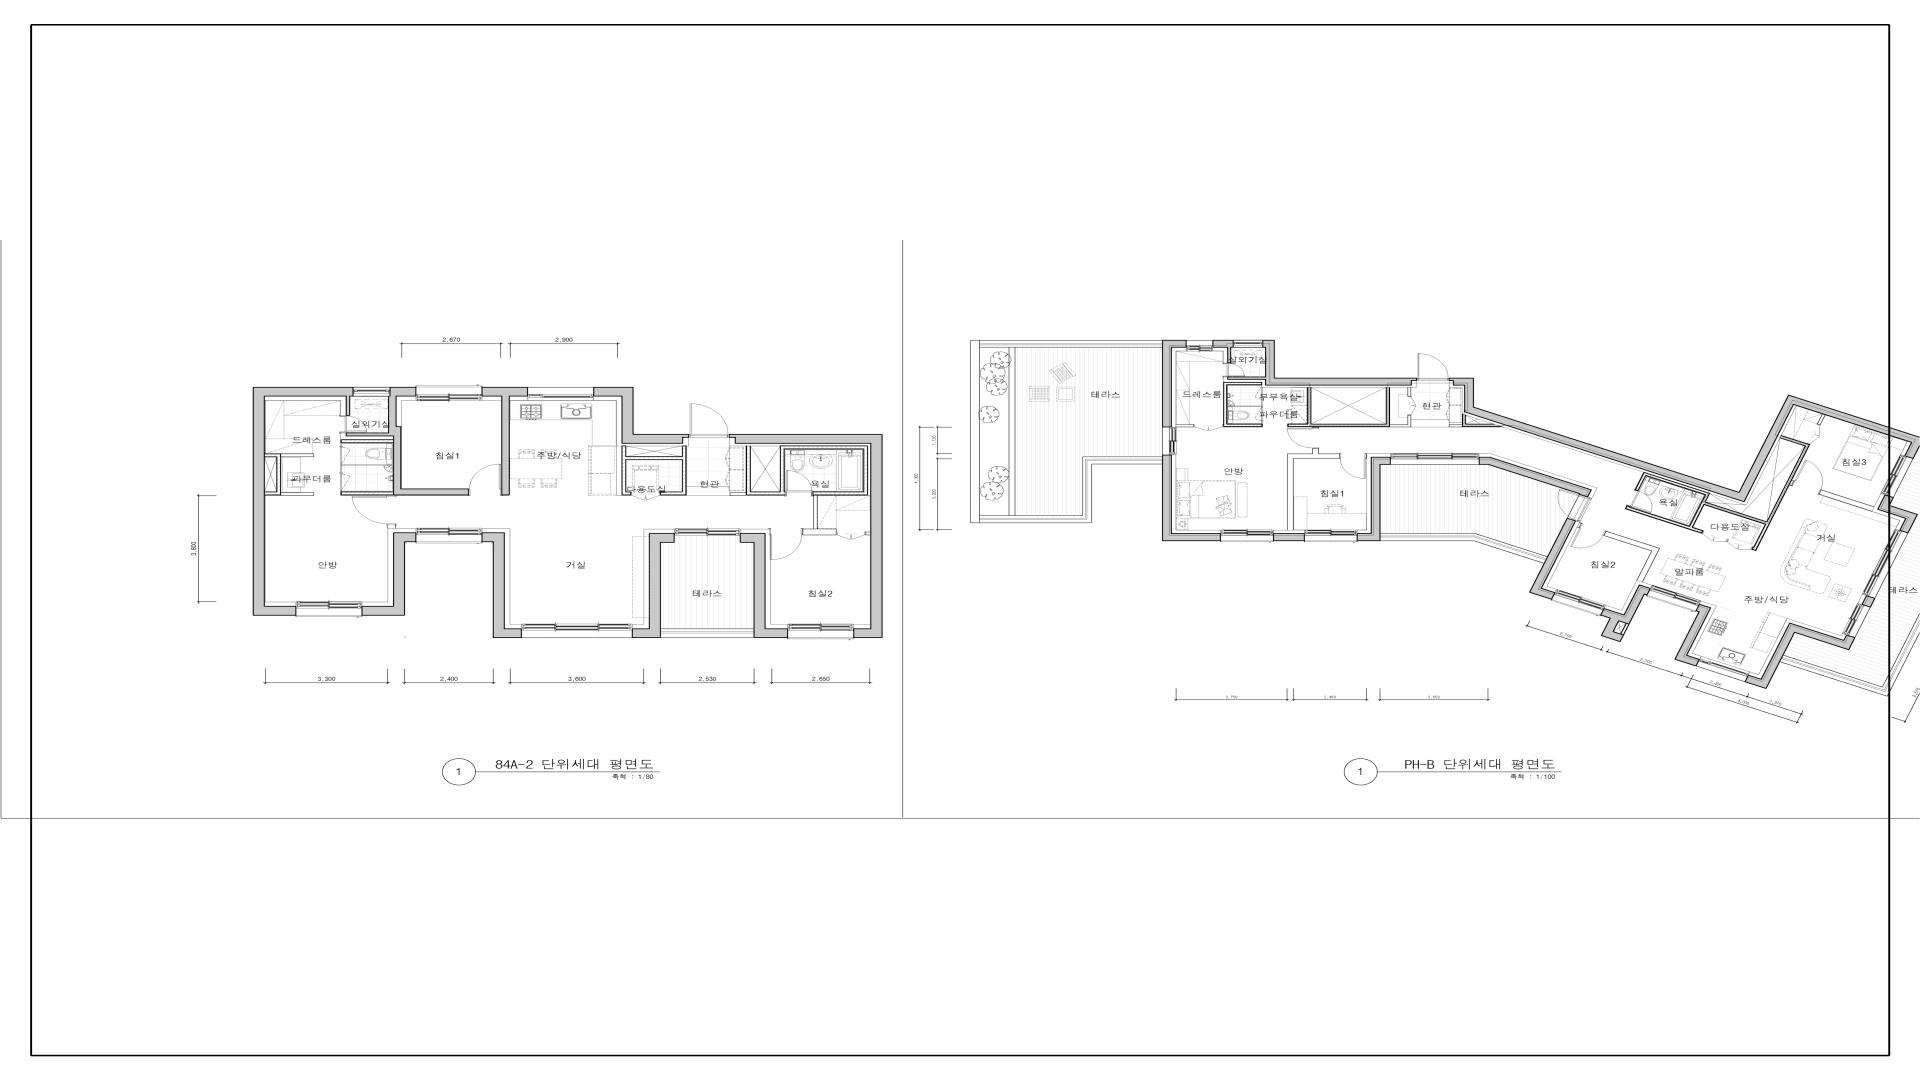door: (1547, 488, 1592, 522), (690, 404, 729, 438), (1792, 460, 1832, 495), (352, 496, 397, 525), (1568, 522, 1606, 554), (769, 529, 803, 560), (469, 464, 501, 496), (1418, 353, 1449, 381), (1626, 489, 1658, 513), (1340, 454, 1367, 479), (1287, 427, 1319, 448), (786, 471, 812, 496), (339, 415, 367, 433), (1700, 531, 1729, 546), (1725, 539, 1753, 554), (1222, 364, 1245, 377), (632, 492, 661, 501), (1193, 425, 1224, 431), (340, 473, 351, 491), (340, 447, 351, 464), (1255, 385, 1263, 400), (1255, 406, 1263, 421)
wall: (1449, 377, 1920, 502), (729, 434, 882, 638), (253, 386, 353, 616), (1625, 435, 1811, 551), (345, 386, 469, 496), (729, 446, 868, 535), (1228, 340, 1418, 385), (1745, 622, 1855, 690), (593, 386, 690, 444), (481, 386, 529, 496), (740, 533, 789, 638), (1162, 455, 1221, 541), (1287, 386, 1411, 427), (361, 533, 417, 616), (632, 533, 675, 638), (1478, 458, 1592, 497), (481, 533, 522, 638), (1287, 448, 1340, 530), (1530, 518, 1576, 600), (621, 446, 687, 496), (1604, 531, 1660, 583), (1601, 584, 1651, 642), (1357, 458, 1391, 542), (1675, 604, 1712, 666), (1162, 340, 1187, 427), (265, 454, 314, 496), (1224, 382, 1263, 427), (1878, 495, 1919, 534), (1820, 489, 1874, 512), (1449, 414, 1503, 427), (340, 464, 393, 473), (1213, 340, 1234, 363), (1274, 533, 1305, 541), (1228, 400, 1263, 406), (342, 492, 393, 496), (342, 439, 393, 443), (1862, 596, 1875, 608), (1621, 624, 1630, 636), (1817, 414, 1825, 425), (1176, 425, 1193, 427), (1407, 388, 1411, 397), (388, 525, 396, 529), (866, 531, 870, 535), (340, 443, 342, 447), (1262, 422, 1263, 423)
window: (1862, 529, 1908, 599), (522, 624, 632, 638), (1551, 589, 1606, 616), (1647, 585, 1701, 612), (1880, 455, 1913, 497), (1697, 657, 1750, 682), (297, 601, 361, 617), (789, 624, 853, 640), (1842, 604, 1871, 638), (417, 529, 481, 543), (417, 386, 481, 401), (1391, 454, 1478, 464), (661, 629, 754, 638), (529, 388, 593, 401), (1221, 530, 1273, 542), (1305, 530, 1357, 542), (675, 529, 740, 535), (1162, 427, 1176, 455), (353, 386, 389, 396), (1187, 340, 1212, 351), (1234, 340, 1262, 348)
